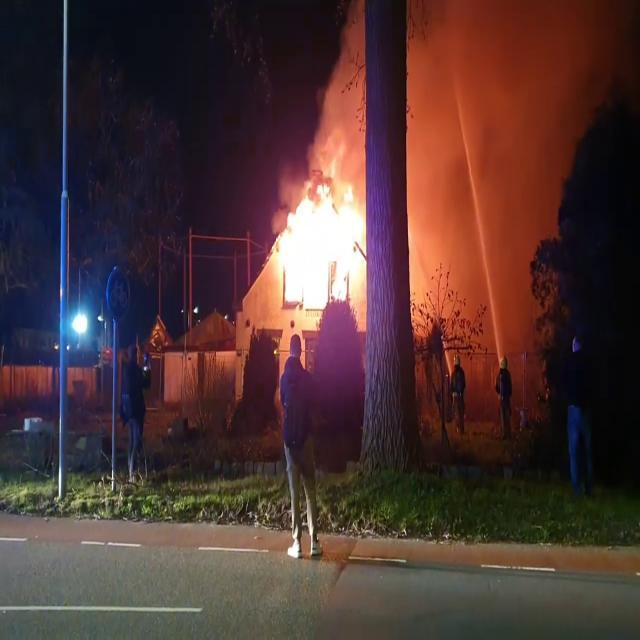Fire: (266, 161, 368, 325)
Smoke: (406, 0, 600, 460)
